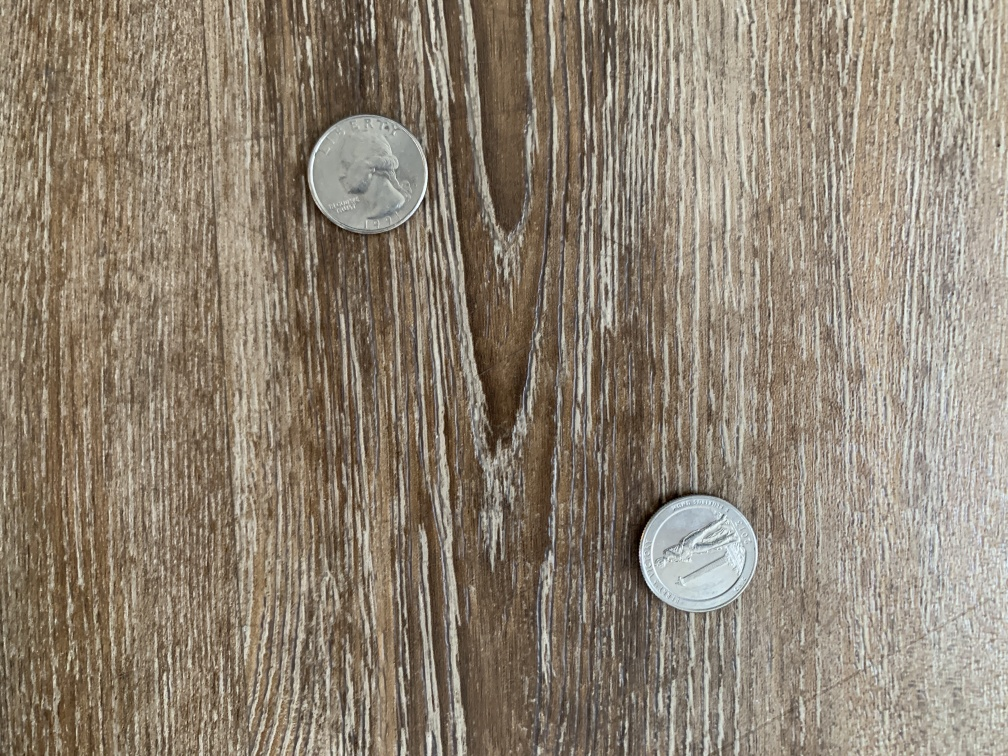quarter: (300, 109, 434, 237), (636, 489, 762, 617)
